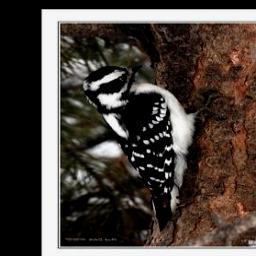Woodpecker: (83, 65, 218, 236)
